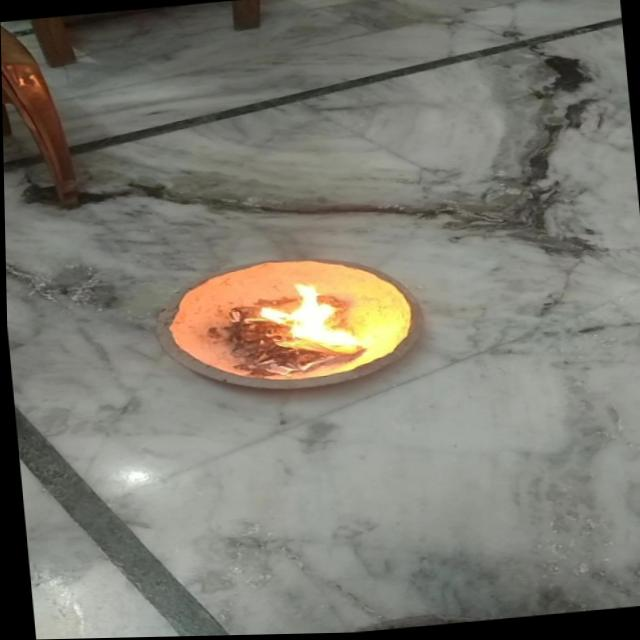fire: (248, 276, 358, 364)
